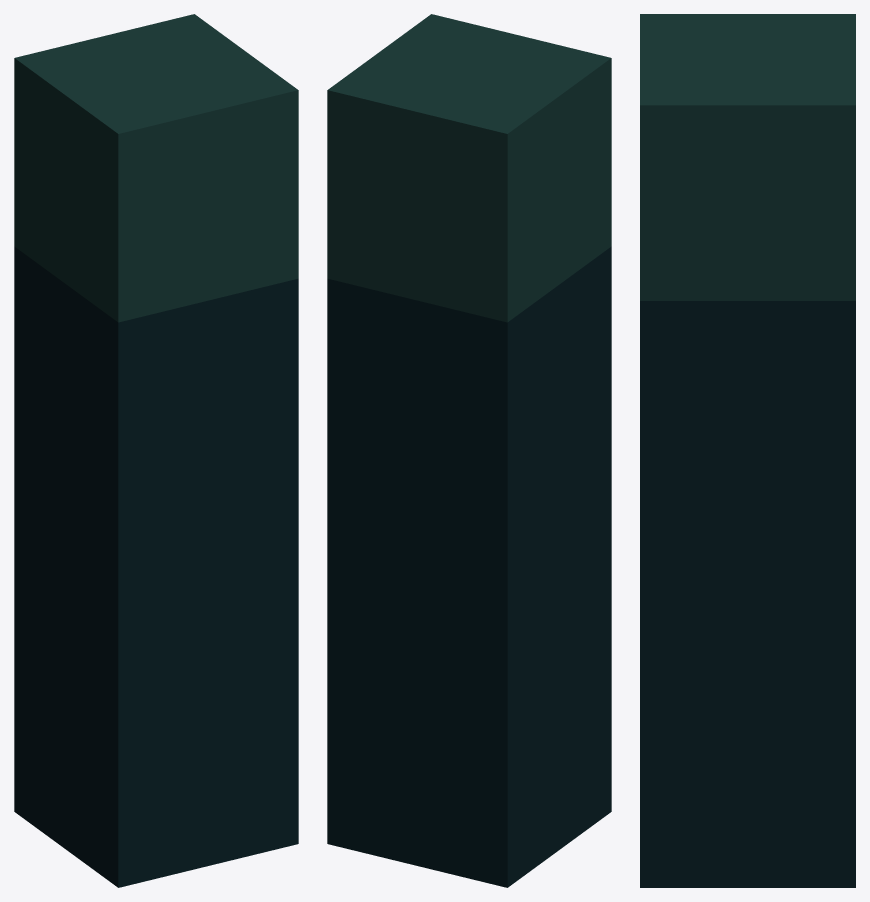
File: Grass_4.glb
3 views of the same model, side by side, from view 1: azimuth 30°, elevation 25°; view 2: azimuth 150°, elevation 25°; view 3: azimuth 270°, elevation 25° (orthographic). The views are drawn at different scales.
Parts seen in each view (by area): view 1: Grass_4; view 2: Grass_4; view 3: Grass_4.
Boxes of the visible parts, <box> form: Grass_4: <box>14,14,298,887</box>; Grass_4: <box>327,14,611,887</box>; Grass_4: <box>640,14,855,887</box>.
Bounding box in the file's own units: 0.025 × 0.1 × 0.025.
